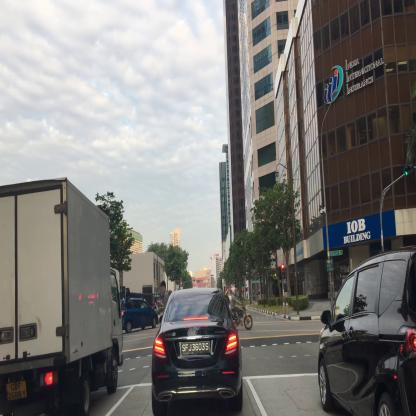red_traffic_light: (281, 263, 285, 278)
